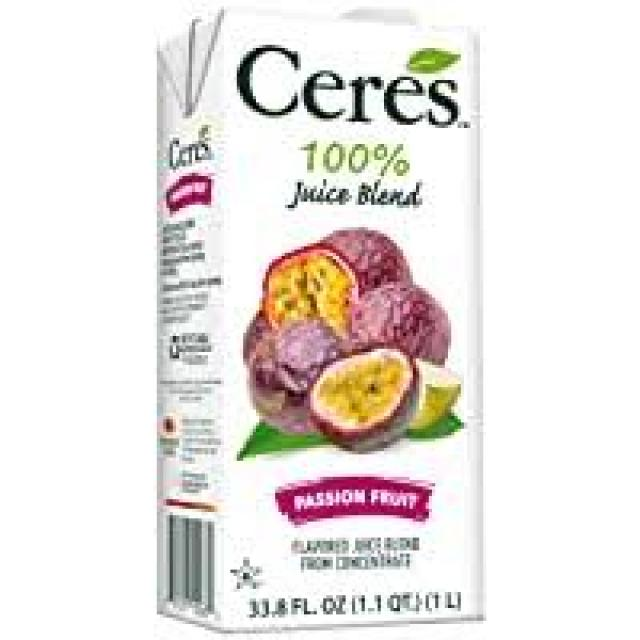non_white_jug: (147, 8, 506, 626)
